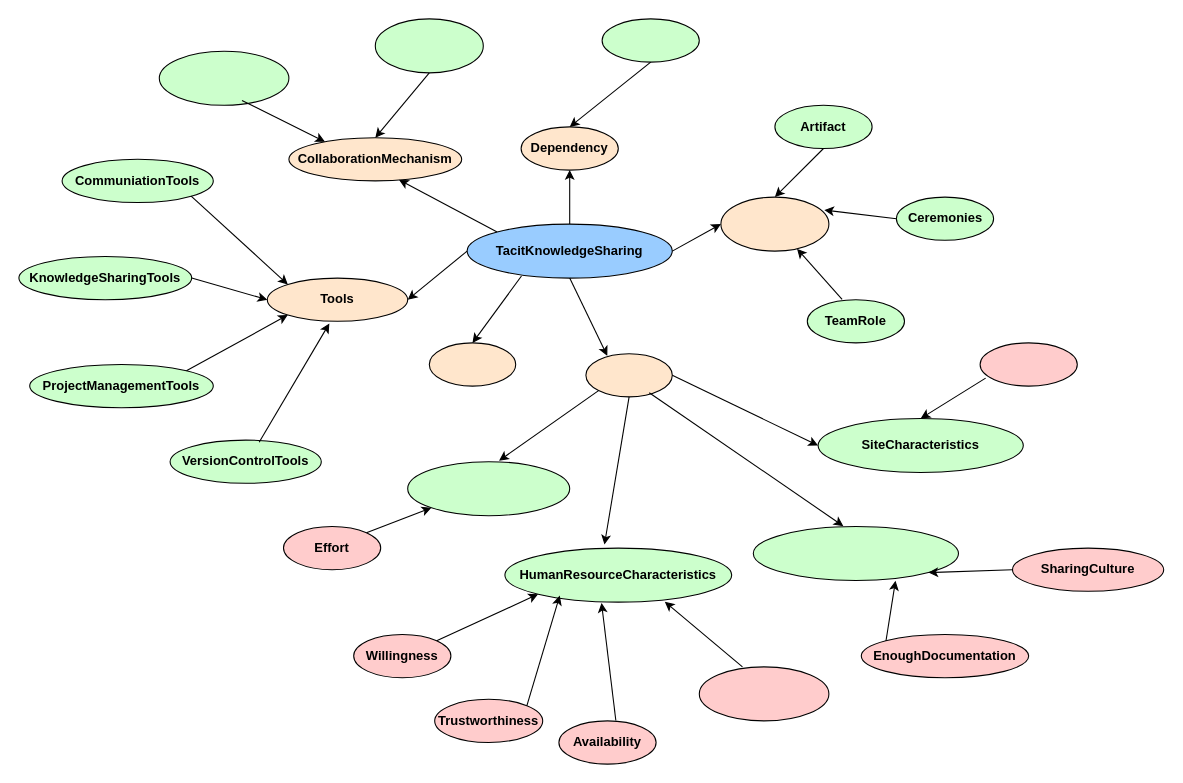
Some shapes in this 1183 by 783 pixel diagram are drawn without their labels. Each missing label, with the box of its shape:
ArtifactsCharacteristics: (407, 461, 570, 516)
Communication: (374, 18, 483, 73)
Expertise: (601, 18, 699, 62)
Factors: (585, 353, 672, 397)
KnoweldgeDomain: (698, 666, 829, 721)
KnowledgeSharing: (158, 50, 289, 105)
Location: (979, 342, 1077, 386)
Scrum: (720, 196, 829, 251)
ScrumCharacteristics: (752, 525, 959, 580)
TeamMember: (428, 342, 516, 386)
